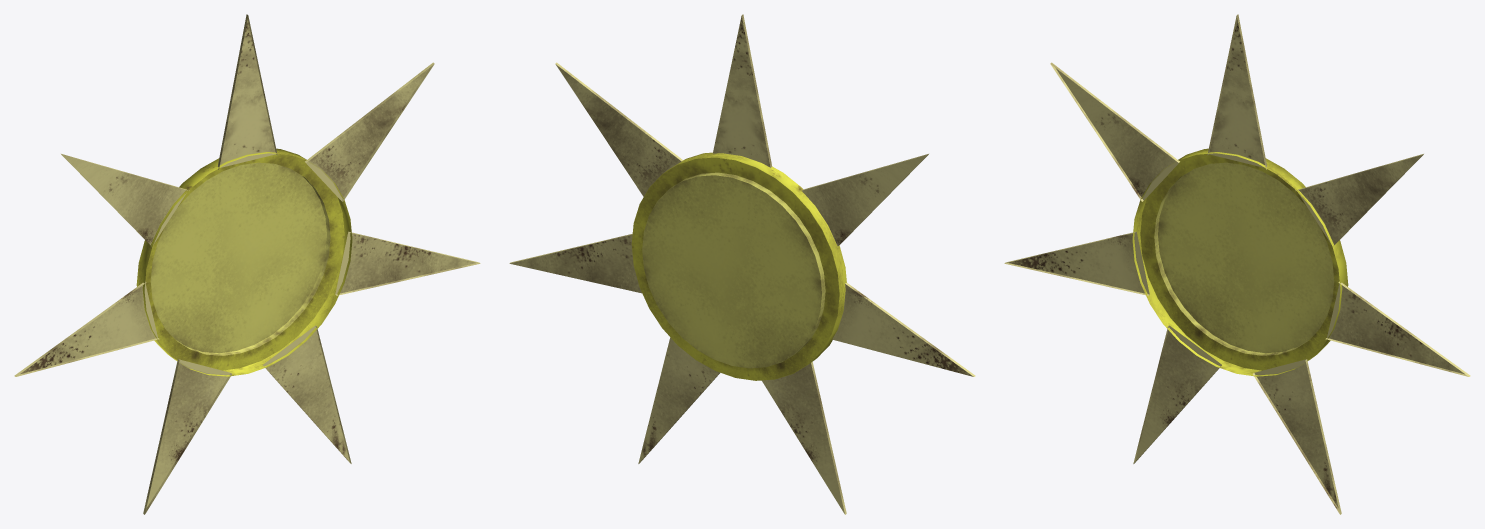
The model's file is sun-ember.glb.
The picture shows the model from 3 angles, left to right: view 1: azimuth 30°, elevation 25°; view 2: azimuth 150°, elevation 25°; view 3: azimuth 330°, elevation 25°; orthographic projection.
Visible parts, largest first — view 1: Wall Sun_Sun Mat_0; view 2: Wall Sun_Sun Mat_0; view 3: Wall Sun_Sun Mat_0.
Boxes of the visible parts, left/top/right/bottom form: Wall Sun_Sun Mat_0: left=14, top=14, right=480, bottom=514; Wall Sun_Sun Mat_0: left=509, top=14, right=975, bottom=514; Wall Sun_Sun Mat_0: left=1004, top=14, right=1470, bottom=514.
Bounding box in the file's own units: 0.6 × 0.585 × 0.0254.
Materials: 1 (1 with a texture image).
